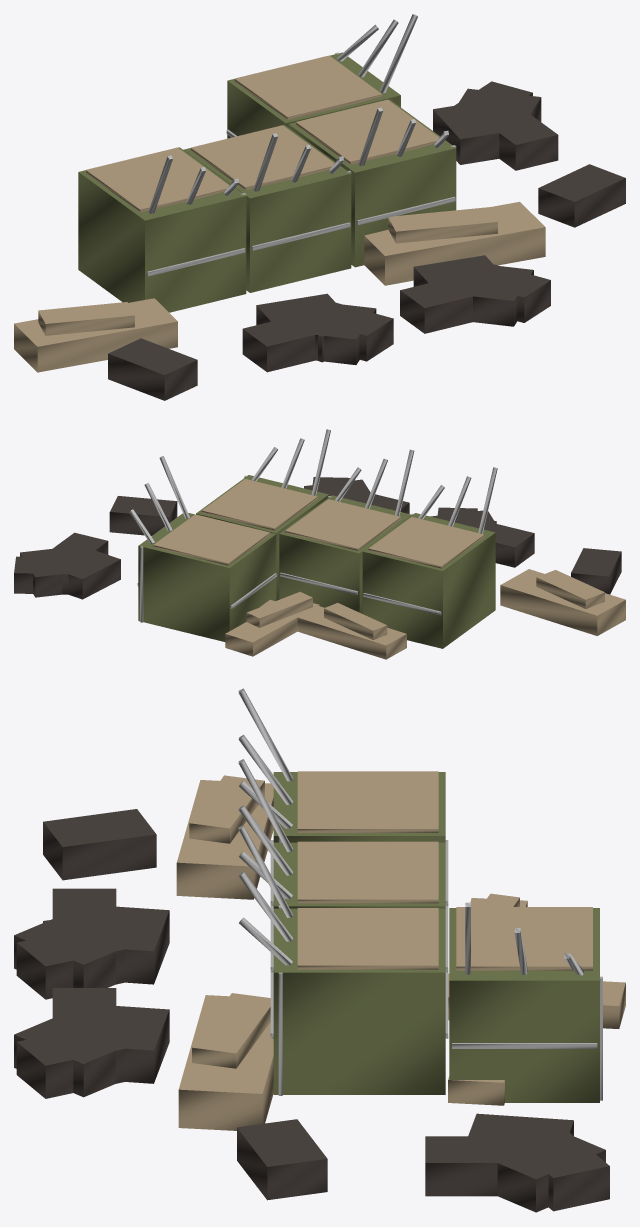
Rendered from SM_HescoRemateEspejo_v4_Red_e2_MuyDanado_LOD0.fbx.
3 renders of one model, top to bottom at view 1: azimuth 30°, elevation 25°; view 2: azimuth 150°, elevation 25°; view 3: azimuth 270°, elevation 25°, orthographic. The views are drawn at different scales.
Parts seen in each view (by area): view 1: SM_hesco_piezas_v38_LOD0; view 2: SM_hesco_piezas_v38_LOD0; view 3: SM_hesco_piezas_v38_LOD0.
Part boxes in pixels (<box>): SM_hesco_piezas_v38_LOD0: <box>14,14,625,400</box>; SM_hesco_piezas_v38_LOD0: <box>14,429,625,659</box>; SM_hesco_piezas_v38_LOD0: <box>14,688,625,1212</box>.
Size of the model in its own units: 6.71 by 1.7 by 4.34.
